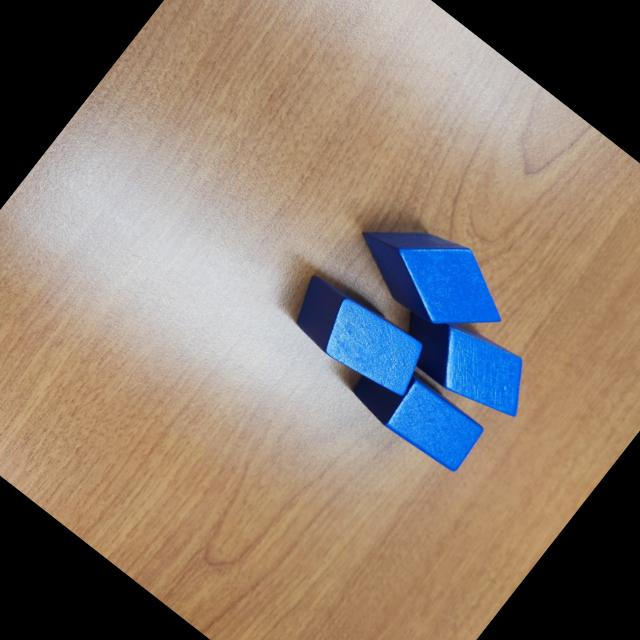blue: (340, 192, 524, 362), (278, 265, 442, 414), (384, 286, 546, 435), (346, 349, 490, 480)
